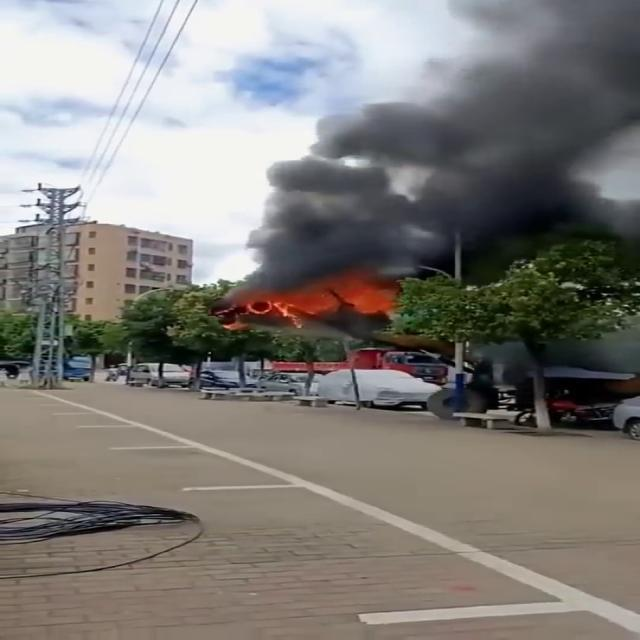Fire: (220, 290, 356, 321)
Smoke: (250, 0, 640, 284)
